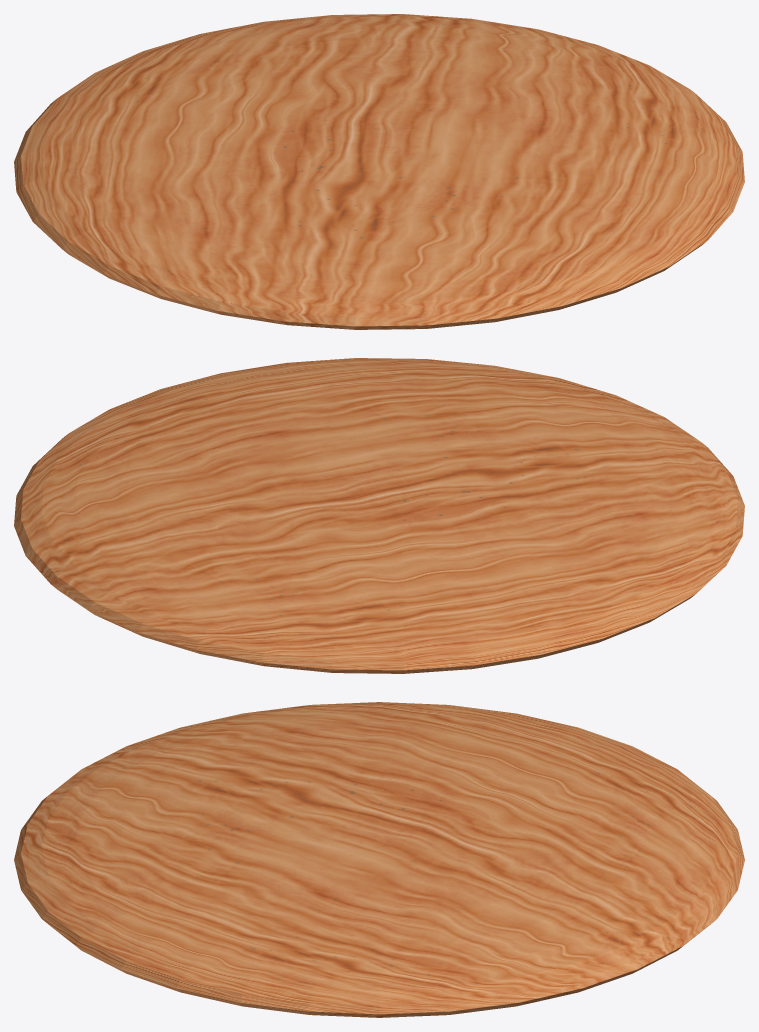
The model's file is island_sand_texture.glb.
3 views of the same model, one above another, from view 1: azimuth 30°, elevation 25°; view 2: azimuth 150°, elevation 25°; view 3: azimuth 270°, elevation 25° (orthographic).
Parts seen in each view (by area): view 1: Sphere; view 2: Sphere; view 3: Sphere.
Boxes of the visible parts, bbox=[...] form: Sphere: bbox=[14, 14, 744, 329]; Sphere: bbox=[14, 358, 744, 673]; Sphere: bbox=[14, 702, 744, 1017].
Size of the model in its own units: 20 by 2 by 20.
Materials: 1 (1 with a texture image).
